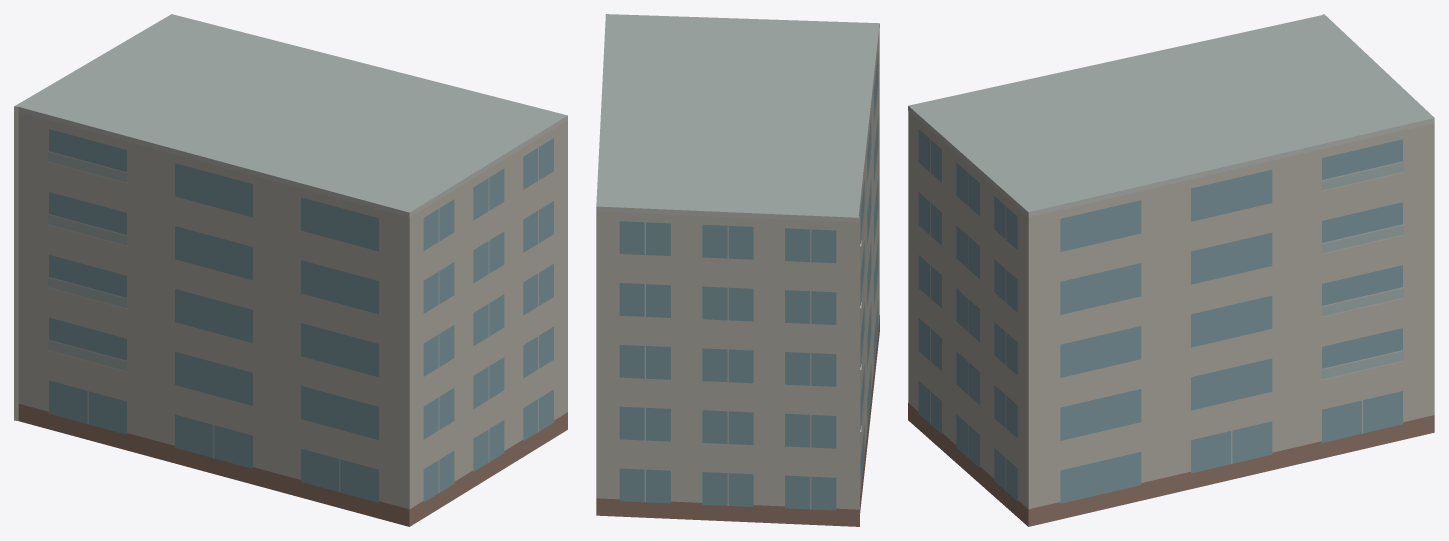
File: survey-upis-32841749.glb
3 renders of one model, left to right at view 1: azimuth 30°, elevation 25°; view 2: azimuth 150°, elevation 25°; view 3: azimuth 270°, elevation 25°, orthographic.
Parts seen in each view (by area): view 1: survey-upis-32841749.tmp; view 2: survey-upis-32841749.tmp; view 3: survey-upis-32841749.tmp.
Part boxes in pixels (x1,y1,x2,y2): survey-upis-32841749.tmp: (14, 14, 567, 526); survey-upis-32841749.tmp: (596, 14, 879, 526); survey-upis-32841749.tmp: (908, 14, 1434, 526).
Bounding box in the file's own units: 20.89 × 15.45 × 23.44.
